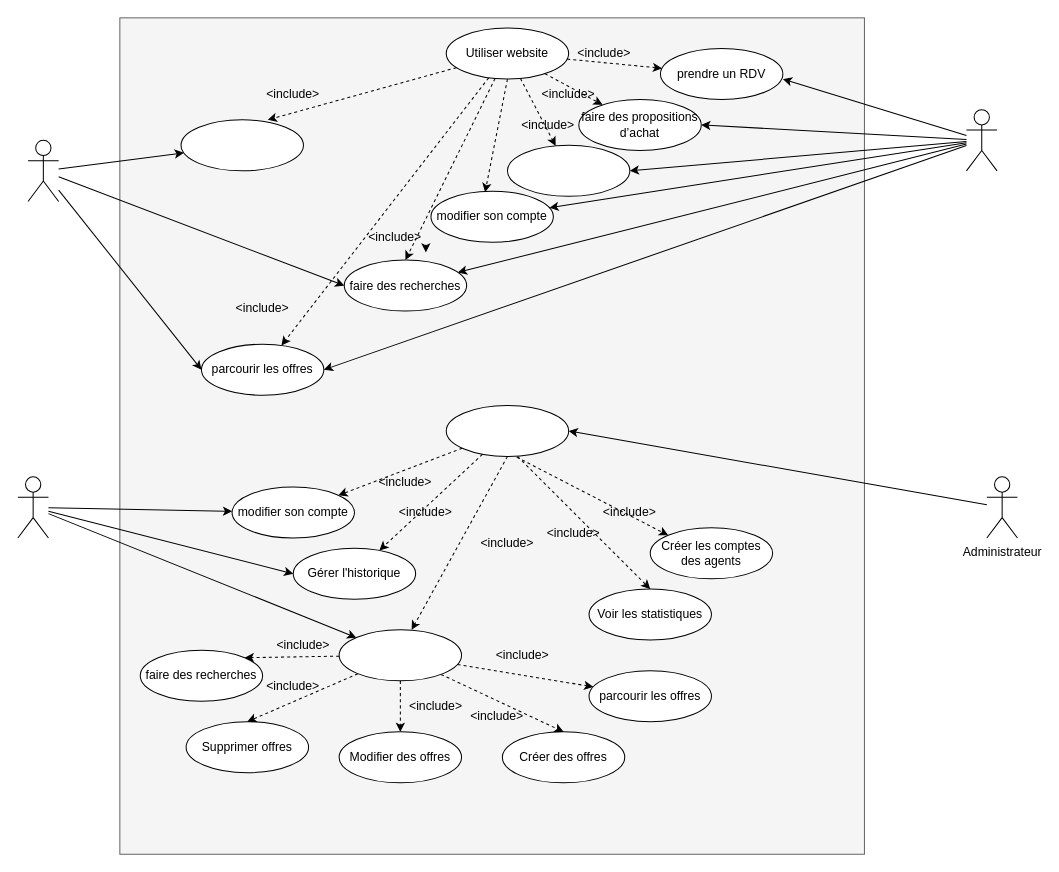
Some shapes in this 1059 by 872 pixel diagram are drawn without their labels. Here are the shapes that lost their labels. From the top down, the centre of each, then its label:
(241,145): Créer un compte
(981,140): Inscrit
(43,170): Visiteur
(568,170): mettre en vente ou à la location les biens
(507,430): Maintenir website
(32,507): Agent
(400,655): Gérer les offres?
